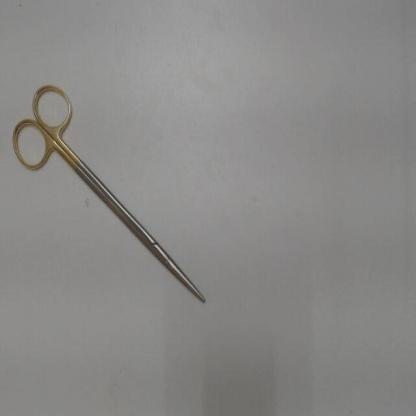7 Metzenbaum Scissors: (9, 79, 208, 305)
